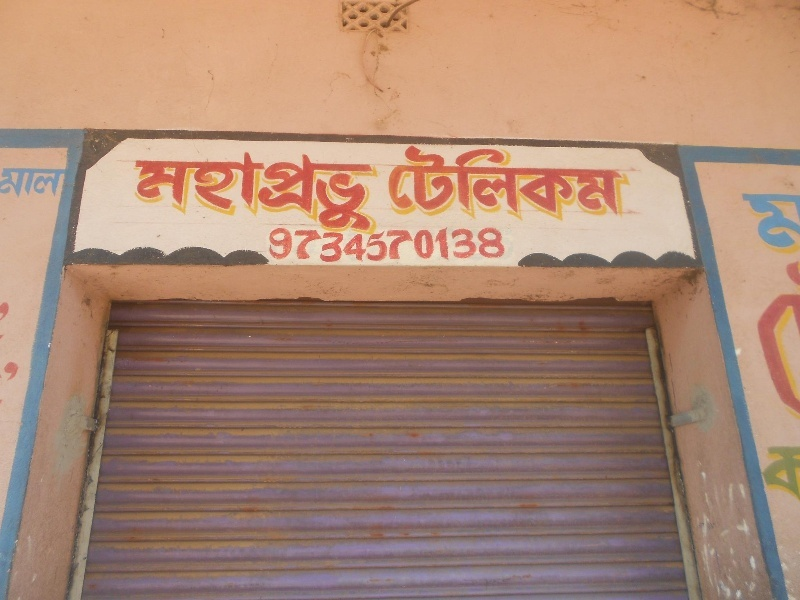text: (753, 189, 768, 509), (769, 189, 784, 509), (785, 189, 800, 509), (738, 189, 752, 509), (1, 295, 16, 389), (145, 150, 160, 234), (161, 150, 176, 234), (177, 150, 192, 234), (193, 150, 208, 234), (209, 150, 224, 234), (225, 150, 240, 234), (241, 150, 256, 234), (257, 150, 272, 234), (273, 150, 288, 234), (289, 150, 304, 234), (305, 150, 320, 234), (321, 150, 336, 234), (337, 150, 352, 234), (353, 150, 368, 234), (401, 143, 416, 223), (417, 143, 432, 223), (433, 143, 448, 223), (449, 143, 464, 223), (465, 143, 480, 223), (481, 143, 496, 223), (497, 143, 512, 223), (513, 143, 528, 223), (529, 143, 544, 223), (545, 143, 560, 223), (561, 143, 576, 223), (577, 143, 592, 223), (593, 143, 608, 223), (609, 143, 624, 223), (388, 143, 400, 223), (369, 150, 379, 234), (135, 150, 144, 234), (273, 226, 288, 263), (289, 226, 304, 263), (305, 226, 320, 263), (321, 226, 336, 263), (337, 226, 352, 263), (353, 226, 368, 263), (369, 226, 384, 263), (385, 226, 400, 263), (401, 226, 416, 263), (417, 226, 432, 263), (433, 226, 448, 263), (449, 226, 464, 263), (465, 226, 480, 263), (481, 226, 496, 263), (17, 295, 22, 389), (17, 168, 32, 199), (33, 168, 48, 199), (49, 168, 64, 199), (497, 226, 509, 263), (2, 168, 16, 199), (625, 143, 630, 223), (268, 226, 272, 263), (65, 168, 66, 199)
